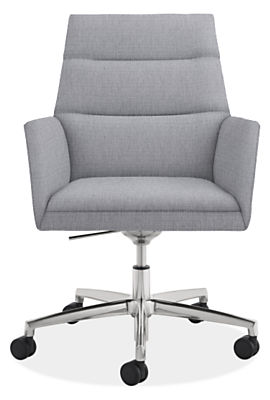chairs: (12, 14, 262, 384)
